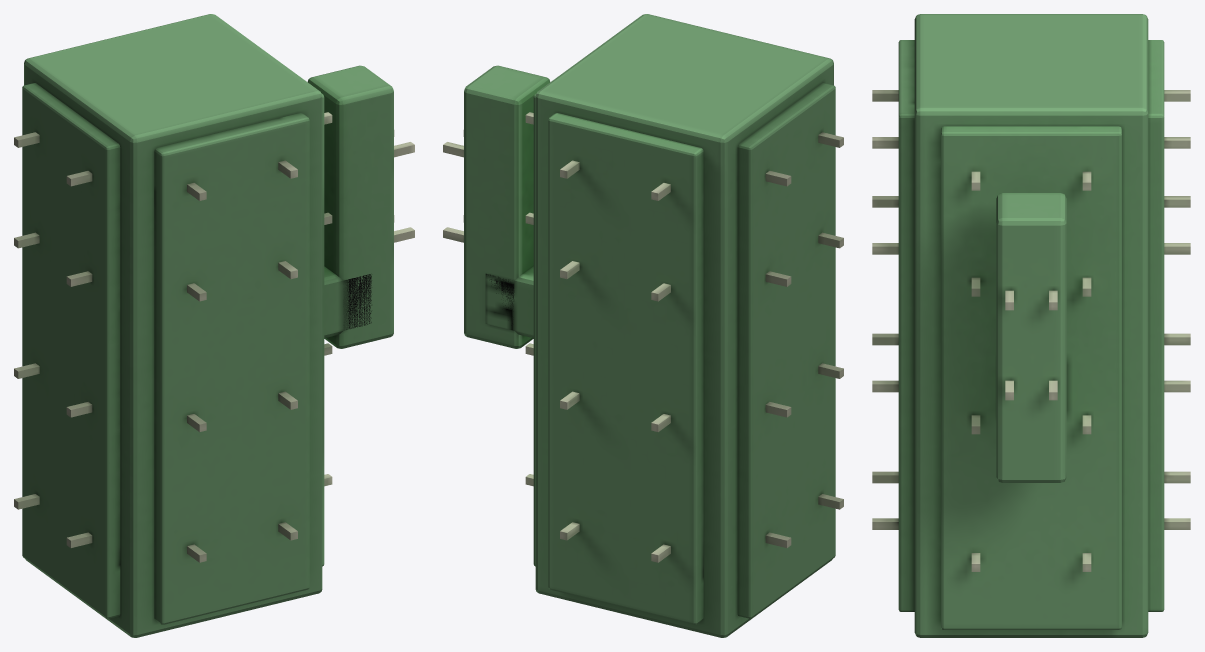
The model's file is cactus.glb.
The picture shows the model from 3 angles, left to right: view 1: azimuth 30°, elevation 25°; view 2: azimuth 150°, elevation 25°; view 3: azimuth 270°, elevation 25°; orthographic projection. The views are drawn at different scales.
Parts seen in each view (by area): view 1: cactus; view 2: cactus; view 3: cactus.
Part boxes in pixels (bbox=[...]): cactus: bbox=[14, 14, 414, 637]; cactus: bbox=[443, 14, 843, 637]; cactus: bbox=[872, 14, 1190, 637].
Size of the model in its own units: 1.5 by 2 by 1.09.
2 materials, 2 textured.
